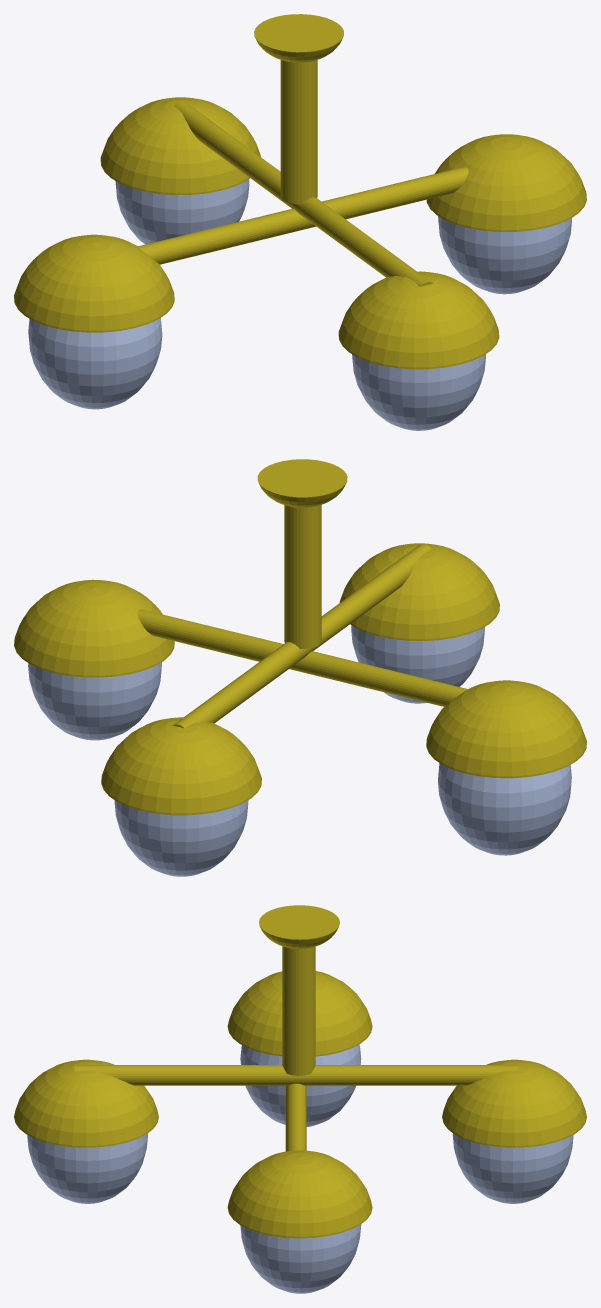
Rendered from ceilinglight.fbx.
The picture shows the model from 3 angles, top to bottom: view 1: azimuth 30°, elevation 25°; view 2: azimuth 150°, elevation 25°; view 3: azimuth 270°, elevation 25°; orthographic projection. The views are drawn at different scales.
Visible parts, largest first — view 1: Sphere.024, Sphere.037, Sphere.035, Sphere.036, Sphere.025, Cylinder.054, Sphere.023, Sphere.020, Cylinder.053, Sphere.021, Cylinder.052, Sphere.026; view 2: Sphere.024, Sphere.036, Sphere.035, Sphere.037, Sphere.025, Cylinder.054, Sphere.023, Sphere.021, Cylinder.053, Cylinder.052, Sphere.020, Sphere.026; view 3: Sphere.035, Sphere.036, Sphere.037, Cylinder.053, Sphere.024, Sphere.020, Sphere.021, Sphere.023, Cylinder.052, Sphere.025, Sphere.026, Cylinder.054.
Part boxes in pixels (box(x1,y1,x2,y2)): Sphere.024: box(14, 234, 174, 332); Sphere.037: box(338, 271, 499, 369); Sphere.035: box(426, 134, 586, 231); Sphere.036: box(100, 97, 260, 195); Sphere.025: box(28, 318, 162, 409); Cylinder.054: box(137, 167, 468, 264); Sphere.023: box(438, 216, 571, 294); Sphere.020: box(352, 354, 485, 430); Cylinder.053: box(174, 102, 432, 286); Sphere.021: box(115, 179, 249, 244); Cylinder.052: box(280, 60, 317, 204); Sphere.026: box(254, 14, 343, 62); Sphere.024: box(426, 680, 586, 778); Sphere.036: box(101, 717, 261, 815); Sphere.035: box(14, 579, 174, 677); Sphere.037: box(339, 543, 499, 641); Sphere.025: box(438, 763, 571, 855); Cylinder.054: box(137, 609, 467, 706); Sphere.023: box(28, 662, 161, 740); Sphere.021: box(114, 800, 248, 876); Cylinder.053: box(172, 544, 431, 728); Cylinder.052: box(284, 505, 321, 648); Sphere.020: box(351, 625, 484, 703); Sphere.026: box(257, 459, 347, 507); Sphere.035: box(227, 1150, 372, 1238); Sphere.036: box(442, 1059, 586, 1147); Sphere.037: box(14, 1059, 158, 1147); Cylinder.053: box(74, 1065, 517, 1085); Sphere.024: box(227, 971, 372, 1056); Sphere.020: box(27, 1133, 147, 1203); Sphere.021: box(452, 1133, 573, 1203); Sphere.023: box(240, 1224, 361, 1293); Cylinder.052: box(282, 946, 315, 1075); Sphere.025: box(240, 1044, 361, 1126); Sphere.026: box(259, 905, 339, 948); Cylinder.054: box(285, 1083, 306, 1151).
Size of the model in its own units: 1201 by 669 by 1201.
